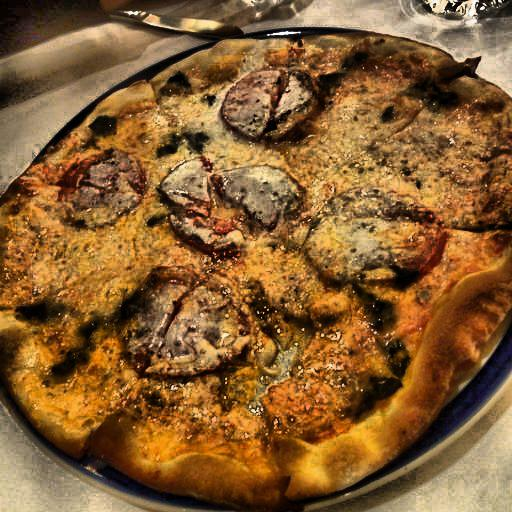pizza: (7, 30, 505, 472)
